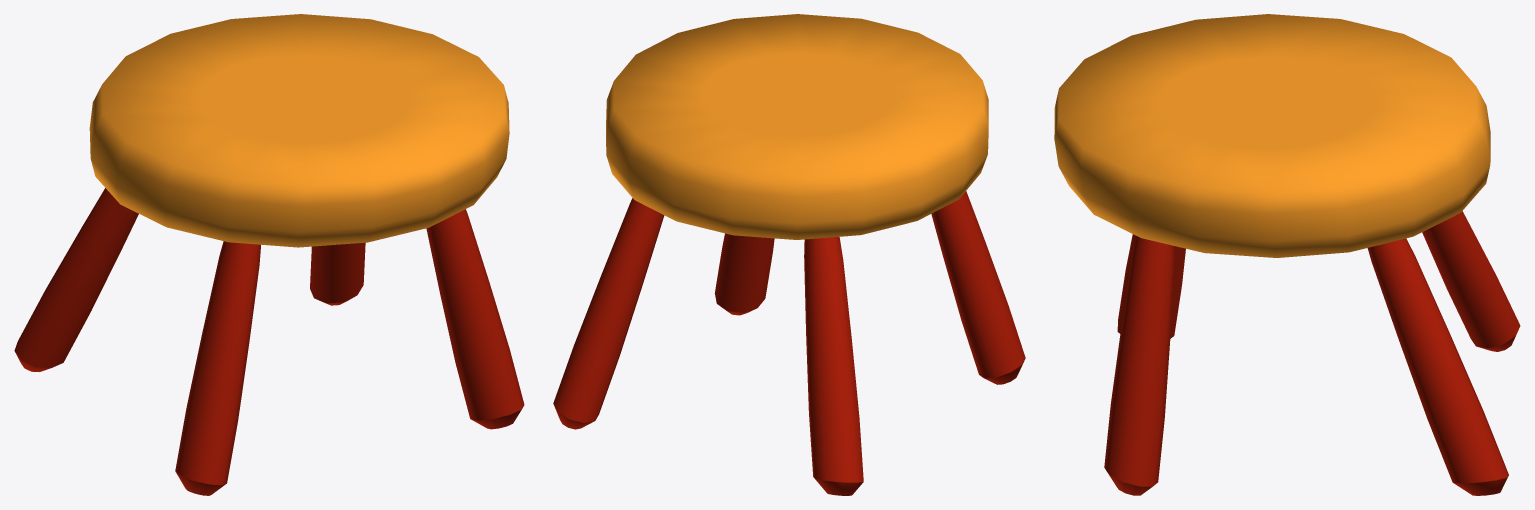
Rendered from kidschair_yellow.FBX.
3 views of the same model, side by side, from view 1: azimuth 30°, elevation 25°; view 2: azimuth 150°, elevation 25°; view 3: azimuth 270°, elevation 25° (orthographic). The views are drawn at different scales.
Parts seen in each view (by area): view 1: KidsTable; view 2: KidsTable; view 3: KidsTable.
Boxes of the visible parts, x1,y1,x2,y2 form: KidsTable: (14, 14, 524, 495); KidsTable: (553, 14, 1025, 495); KidsTable: (1054, 14, 1520, 495).
Bounding box in the file's own units: 16.16 × 13.27 × 17.28.
